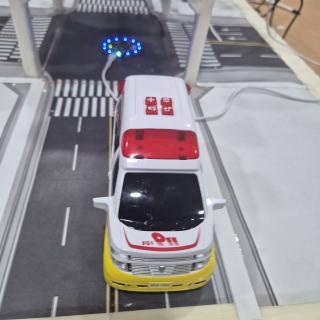Ambulance: (93, 75, 226, 291)
